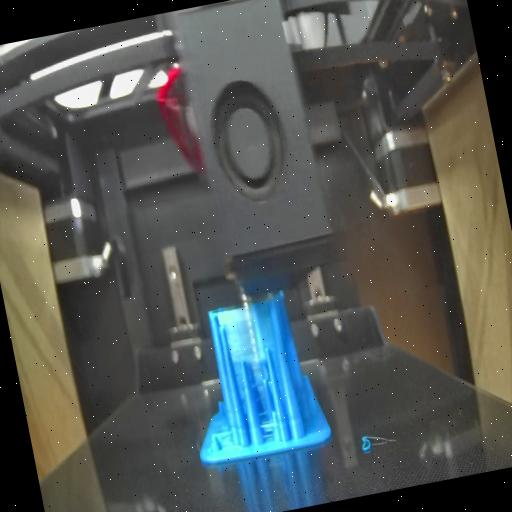stringing: (218, 301, 280, 369), (248, 366, 282, 448)
